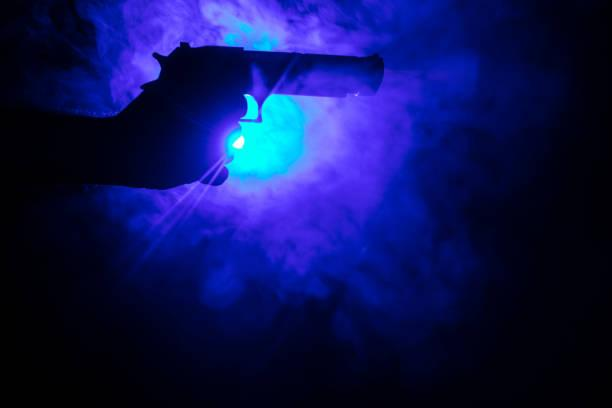weapon: (142, 40, 390, 186)
